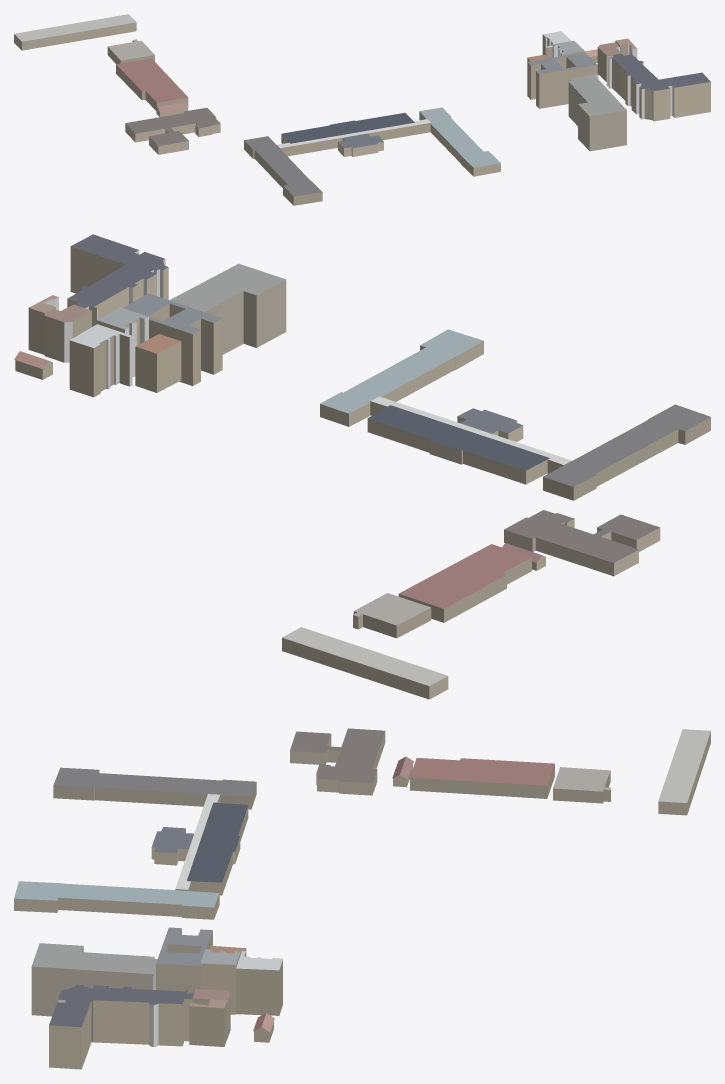
3 renders of one model, top to bottom at view 1: azimuth 30°, elevation 25°; view 2: azimuth 150°, elevation 25°; view 3: azimuth 270°, elevation 25°, orthographic. The views are drawn at different scales.
Visible parts, largest first — view 1: tuile; view 2: tuile; view 3: tuile.
Part boxes in pixels (box(x1,y1,x2,y2)): tuile: box(14, 14, 710, 205); tuile: box(14, 234, 710, 699); tuile: box(14, 728, 710, 1069).
Size of the model in its own units: 281 by 26.11 by 257.
